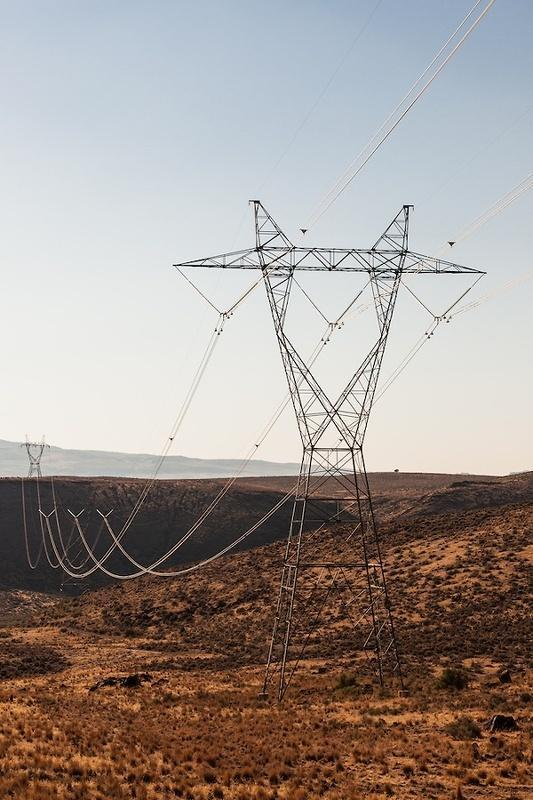power_tower: (171, 197, 491, 705), (20, 424, 49, 481)
